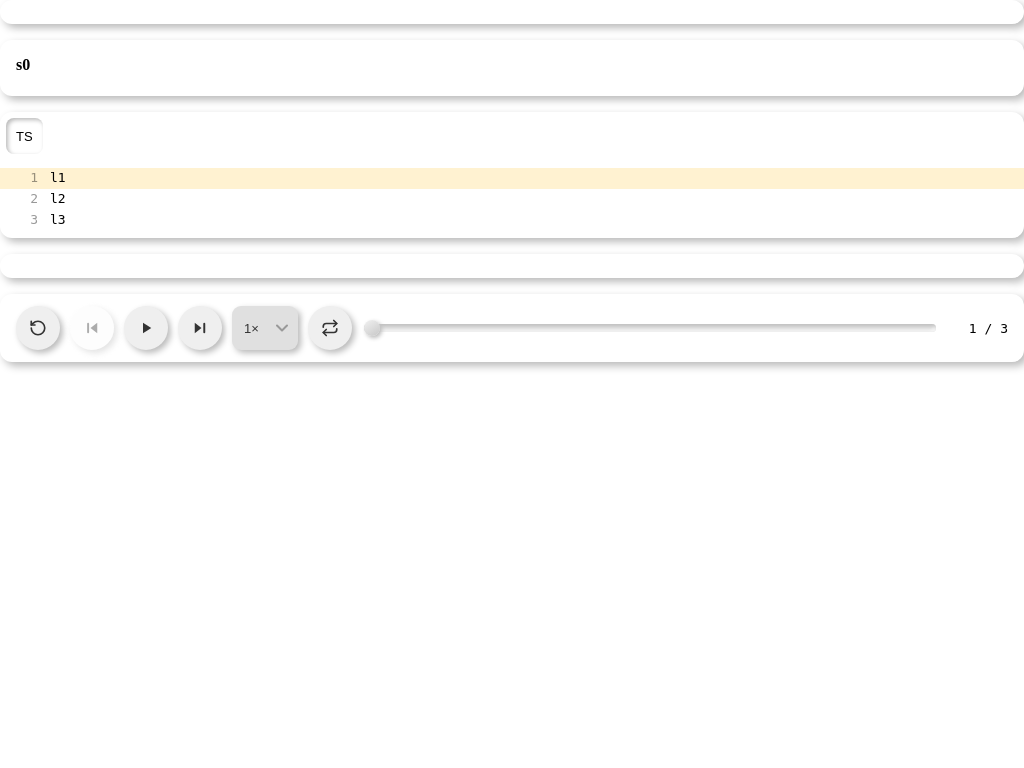
Test: AlgorithmPlayer › 测验模式（C-112） › TC-PLAYER-QUIZ-04 末步显示成绩（有题页）；无题页无成绩行
Click the button titled "下一步".
click(200, 328)  # box [178,306,222,350]
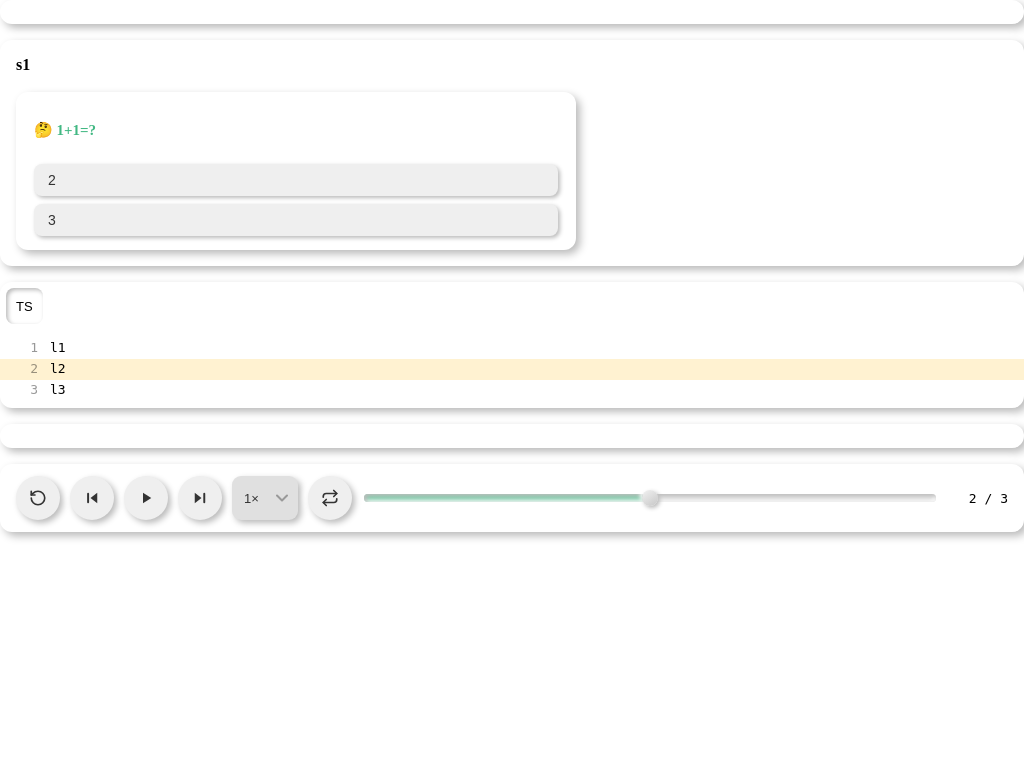
Click the button "3".
click(52, 220)  # box [34,204,558,236]
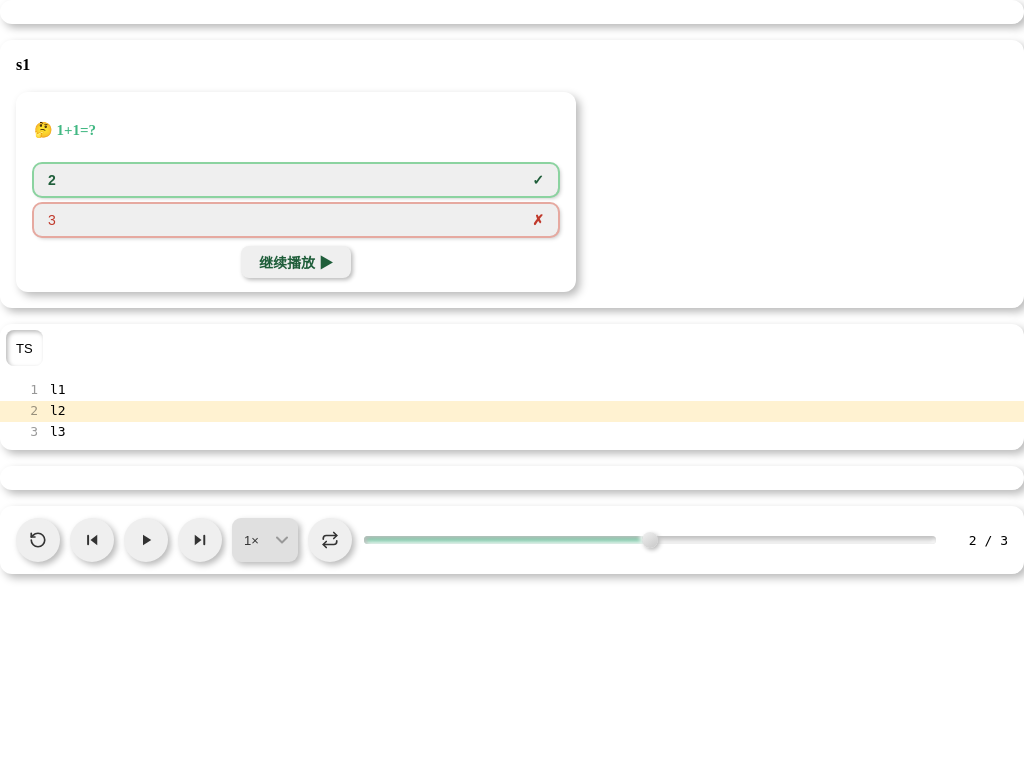
Click the button "继续播放 ▶".
click(296, 262)  # box [241,246,351,278]
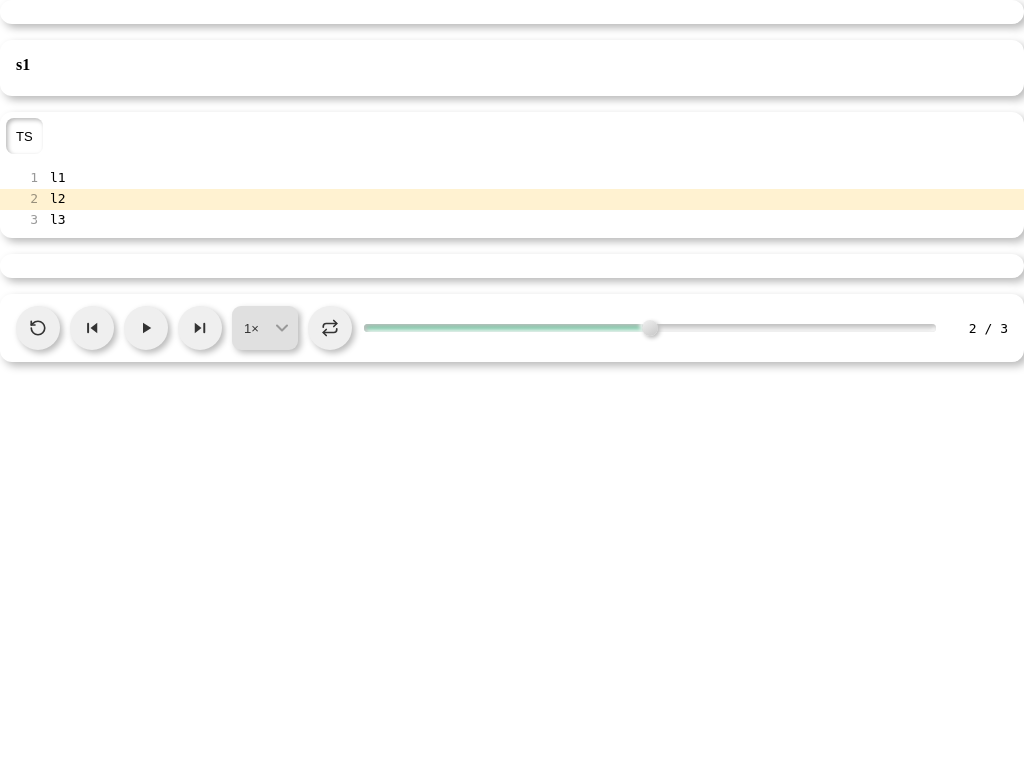
Click the button titled "下一步".
click(200, 328)  # box [178,306,222,350]
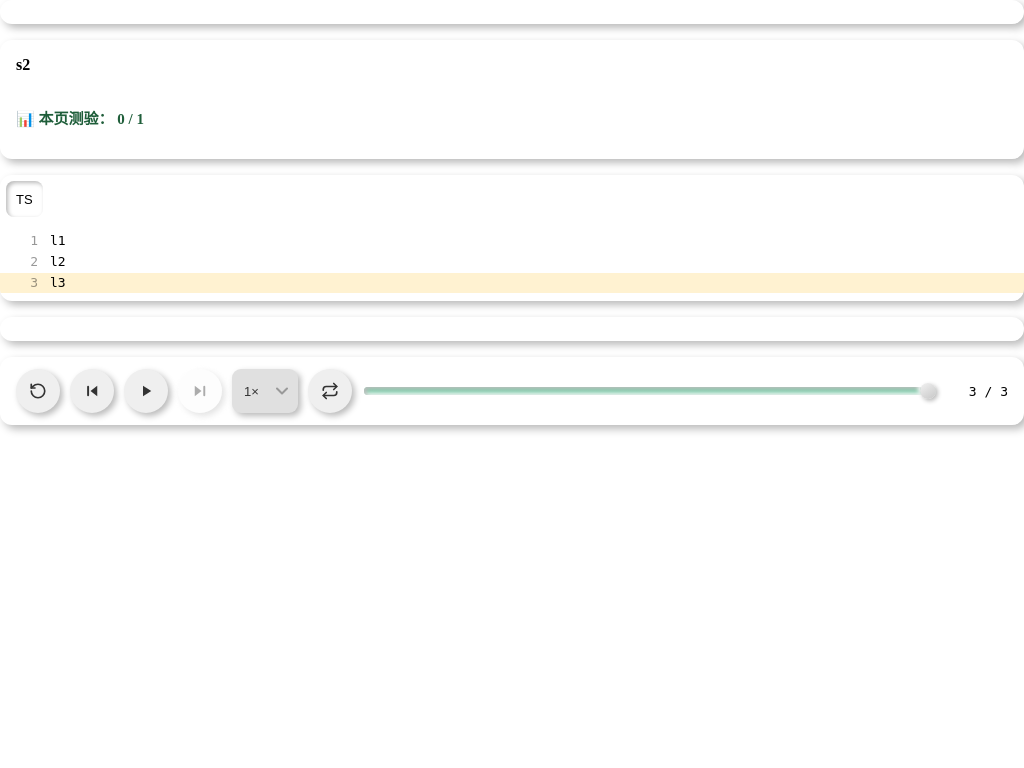
Now the text "📊 本页测验： 0 / 1" is shown, box [16,111,144,127]
